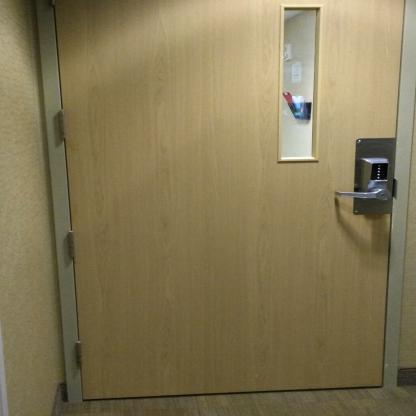door: (44, 0, 403, 403)
hinged: (70, 341, 88, 370), (65, 229, 80, 263), (54, 110, 69, 144), (49, 0, 62, 9)
lever: (332, 186, 394, 204)
